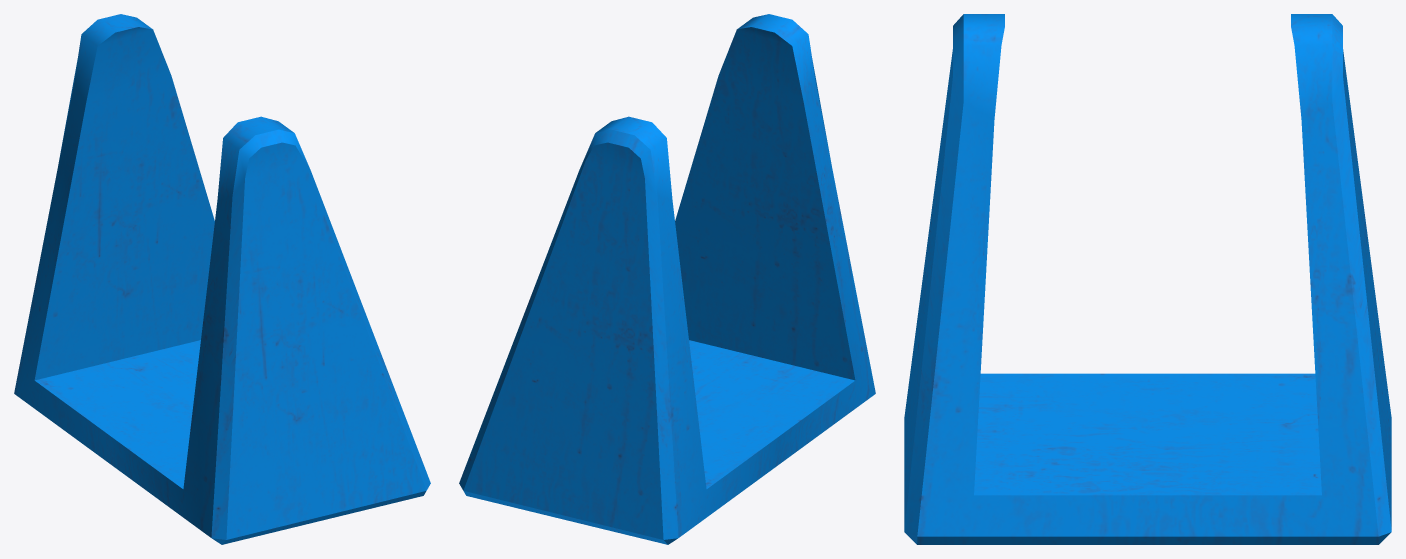
File: ball_shooter_base.dae
The picture shows the model from 3 angles, left to right: view 1: azimuth 30°, elevation 25°; view 2: azimuth 150°, elevation 25°; view 3: azimuth 270°, elevation 25°; orthographic projection. The views are drawn at different scales.
Visible parts, largest first — view 1: Base; view 2: Base; view 3: Base.
Boxes of the visible parts, x1,y1,x2,y2 form: Base: (14, 14, 430, 544); Base: (459, 14, 875, 544); Base: (904, 14, 1391, 544).
Bounding box in the file's own units: 0.0741 × 0.12 × 0.1213.
1 material, 1 textured.
